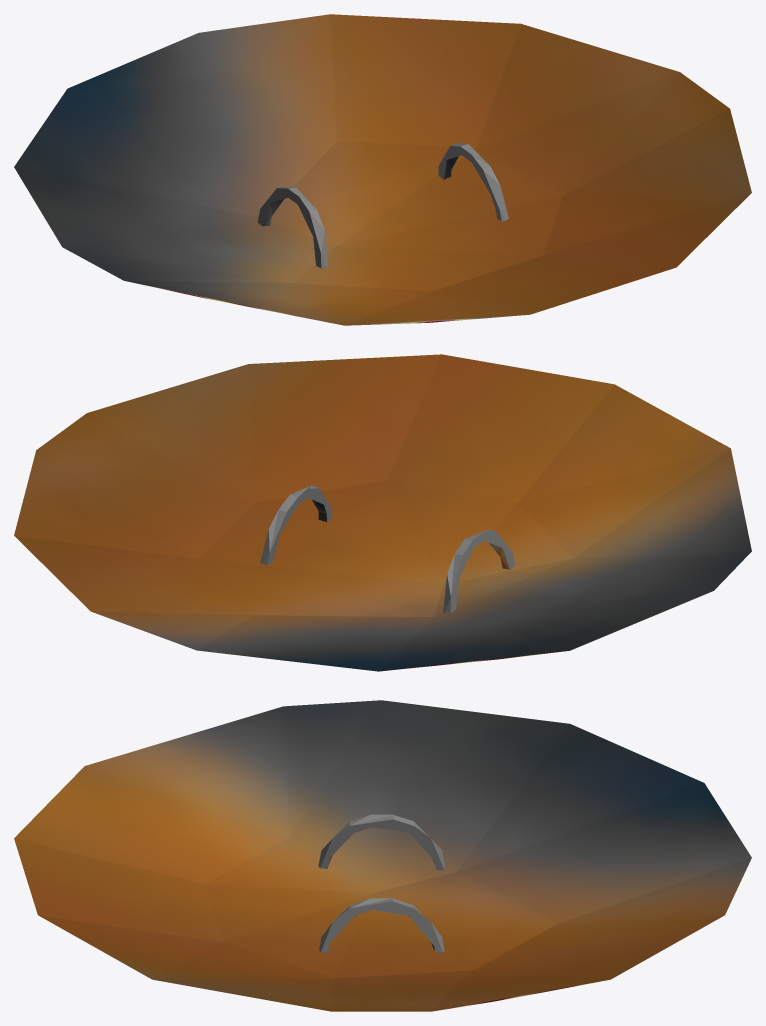
File: hawkshield_wtf.obj
3 views of the same model, one above another, from view 1: azimuth 30°, elevation 25°; view 2: azimuth 150°, elevation 25°; view 3: azimuth 270°, elevation 25° (orthographic). The views are drawn at different scales.
Visible parts, largest first — view 1: group1; view 2: group1; view 3: group1.
Part boxes in pixels (left/top/right/bottom): group1: left=14, top=14, right=751, bottom=325; group1: left=14, top=354, right=751, bottom=671; group1: left=14, top=700, right=751, bottom=1011.
Bounding box in the file's own units: 659 × 69.21 × 660.
